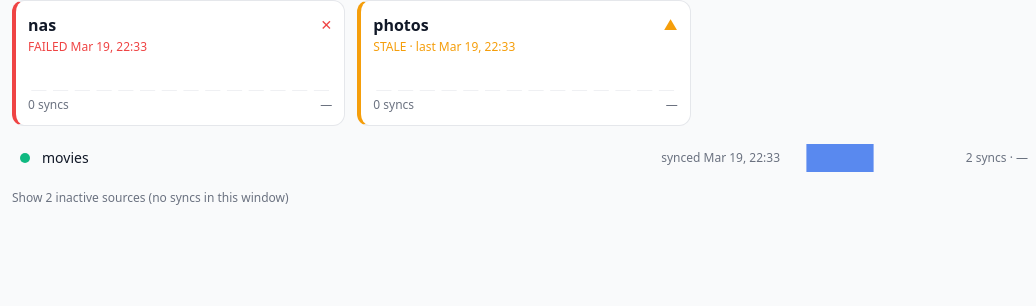
Scenario: SourceGrid (AC-006) › hides quiet sources behind a toggle by default
Expected: the number of links with test id "source-card" is 2, 12,0 -> 345,126; 357,0 -> 691,126
Expected: the number of links with test id "source-row" is 1, 12,138 -> 1035,178
Step 1. Click the button with test id "toggle-inactive" → (150, 198), box 12,190 -> 289,206
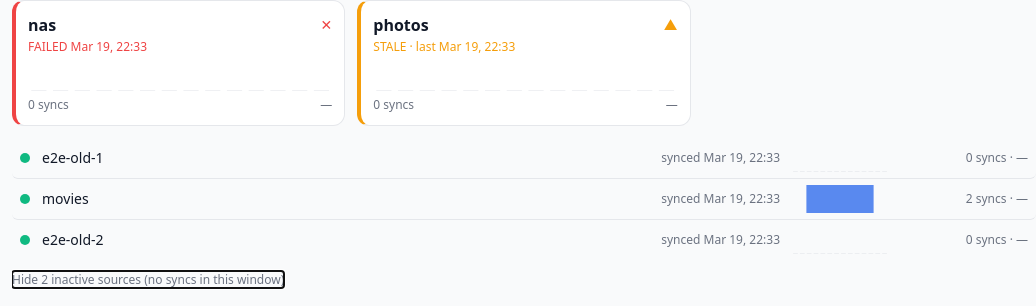
Result: the number of links with test id "source-row" is 3 at 12,138 -> 1035,179; 12,179 -> 1035,220; 12,220 -> 1035,260
Result: the button with test id "toggle-inactive" shows "Hide 2 inactive sources" at 12,272 -> 284,288
